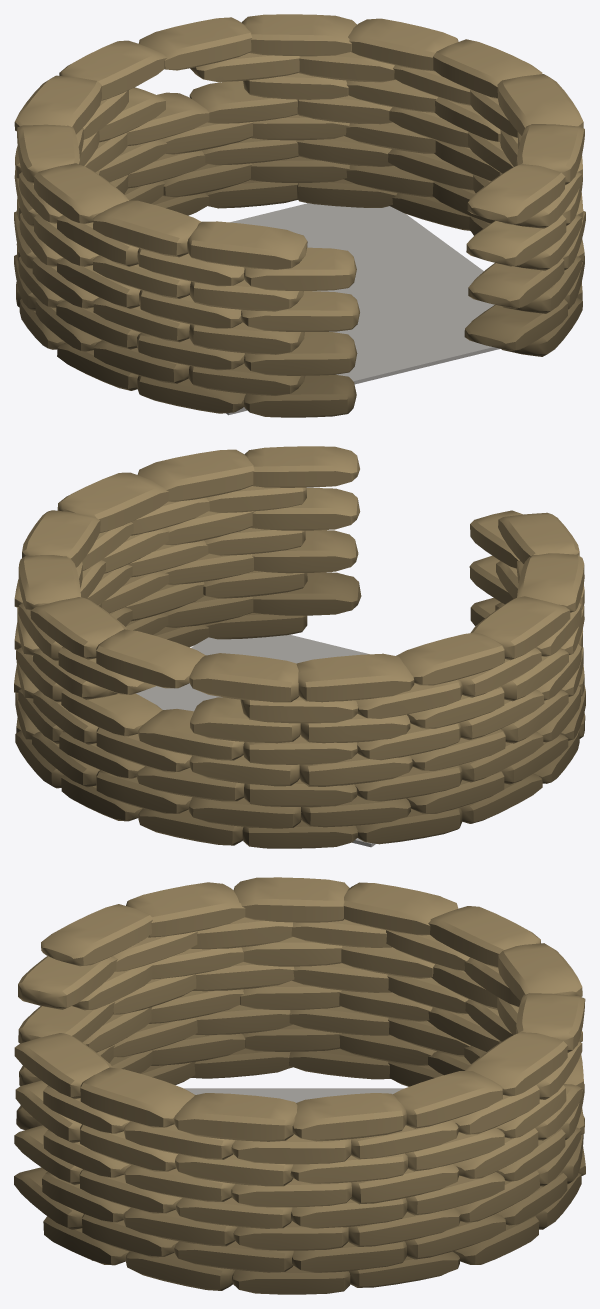
The model's file is dfp_sandbag_ring.glb.
3 views of the same model, one above another, from view 1: azimuth 30°, elevation 25°; view 2: azimuth 150°, elevation 25°; view 3: azimuth 270°, elevation 25° (orthographic). The views are drawn at different scales.
Parts seen in each view (by area): view 1: dfp_sandbag_ring_LOD0; view 2: dfp_sandbag_ring_LOD0; view 3: dfp_sandbag_ring_LOD0.
Part boxes in pixels (x1,y1,x2,y2): dfp_sandbag_ring_LOD0: (14,14,585,417); dfp_sandbag_ring_LOD0: (14,446,585,848); dfp_sandbag_ring_LOD0: (14,877,585,1294).
Size of what is drawn, in the model's own units: 2.96 by 0.993 by 2.86.
